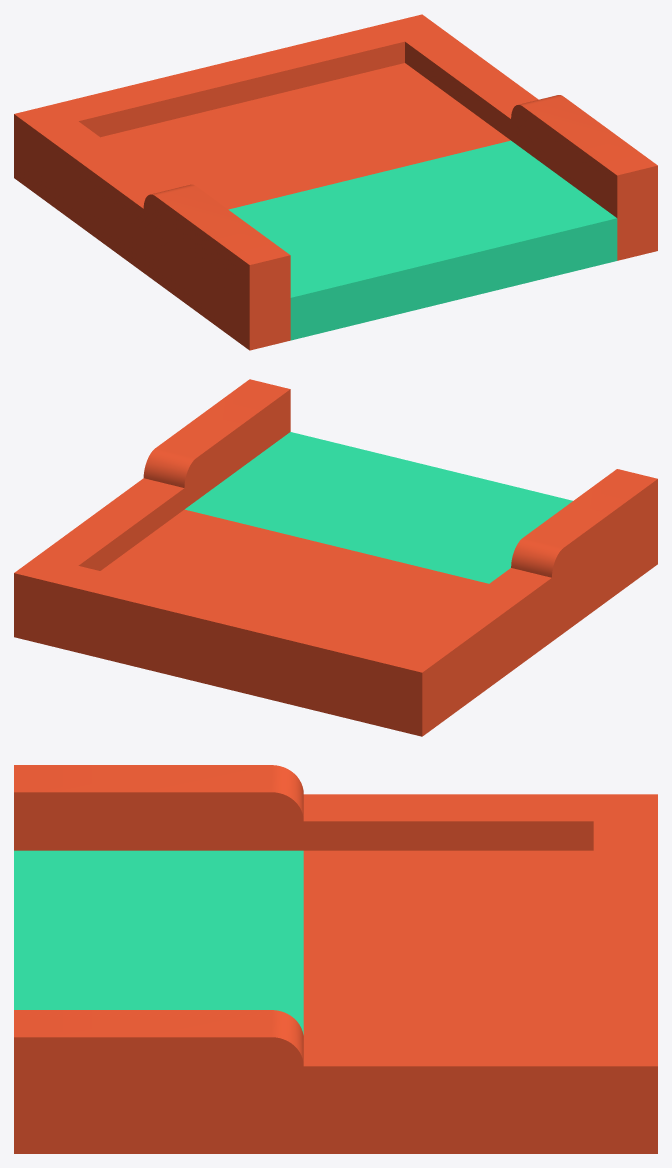
Rendered from track_start.fbx.
3 views of the same model, one above another, from view 1: azimuth 30°, elevation 25°; view 2: azimuth 150°, elevation 25°; view 3: azimuth 270°, elevation 25° (orthographic). The views are drawn at different scales.
Parts seen in each view (by area): view 1: start_closed_36; view 2: start_closed_36; view 3: start_closed_36.
Part boxes in pixels (left/top/right/bottom): start_closed_36: left=14, top=14, right=657, bottom=350; start_closed_36: left=14, top=379, right=657, bottom=736; start_closed_36: left=14, top=765, right=657, bottom=1153.
Size of the model in its own units: 10 by 2 by 10.
